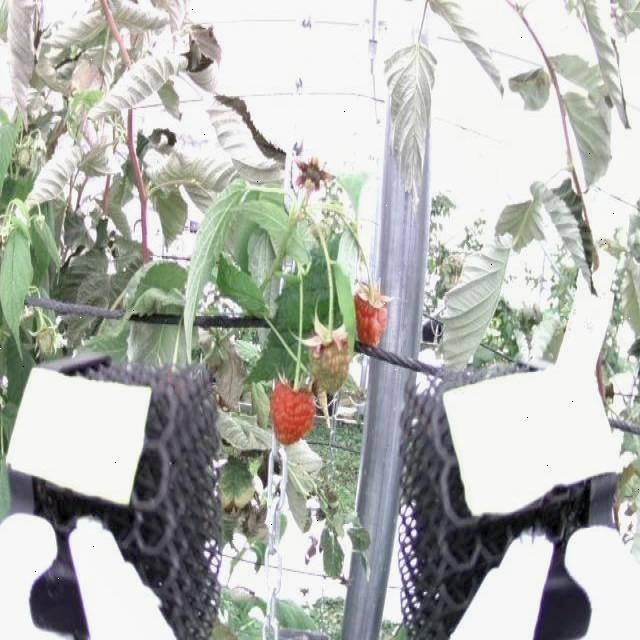Riped berries: (264, 377, 318, 442), (349, 274, 386, 358)
